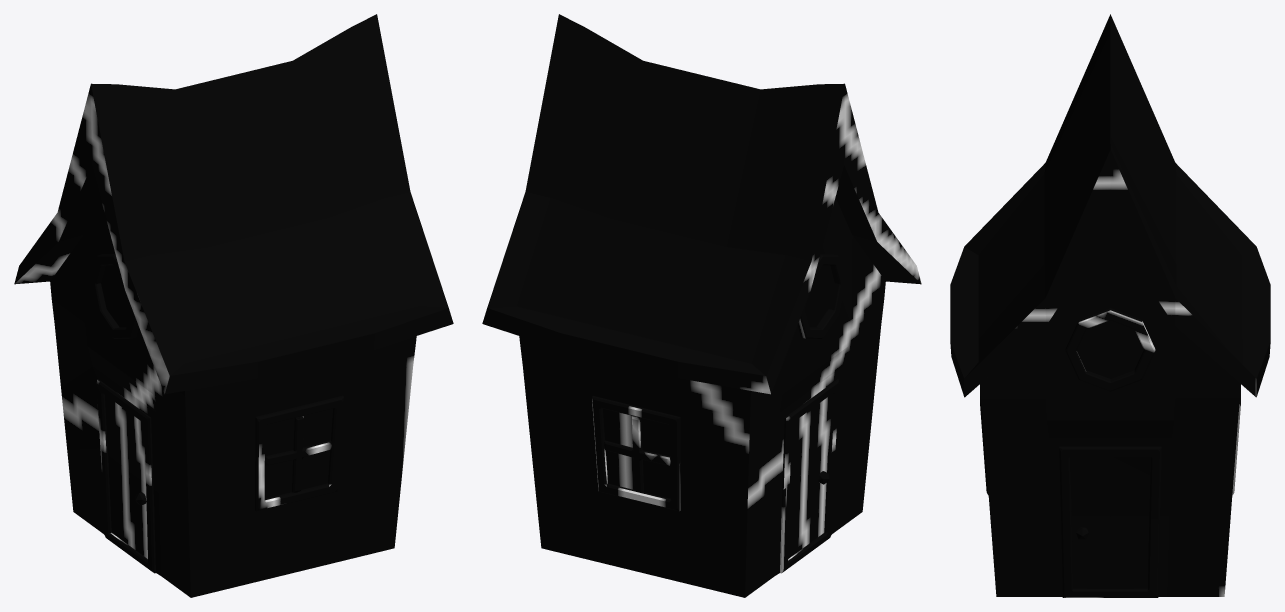
Rendered from house1.fbx.
3 renders of one model, left to right at view 1: azimuth 30°, elevation 25°; view 2: azimuth 150°, elevation 25°; view 3: azimuth 270°, elevation 25°, orthographic. The views are drawn at different scales.
Visible parts, largest first — view 1: Icosphere; view 2: Icosphere; view 3: Icosphere.
Part boxes in pixels (x1,y1,x2,y2): Icosphere: [14, 14, 453, 597]; Icosphere: [482, 14, 921, 597]; Icosphere: [950, 14, 1270, 597].
Bounding box in the file's own units: 221 × 352 × 219.
